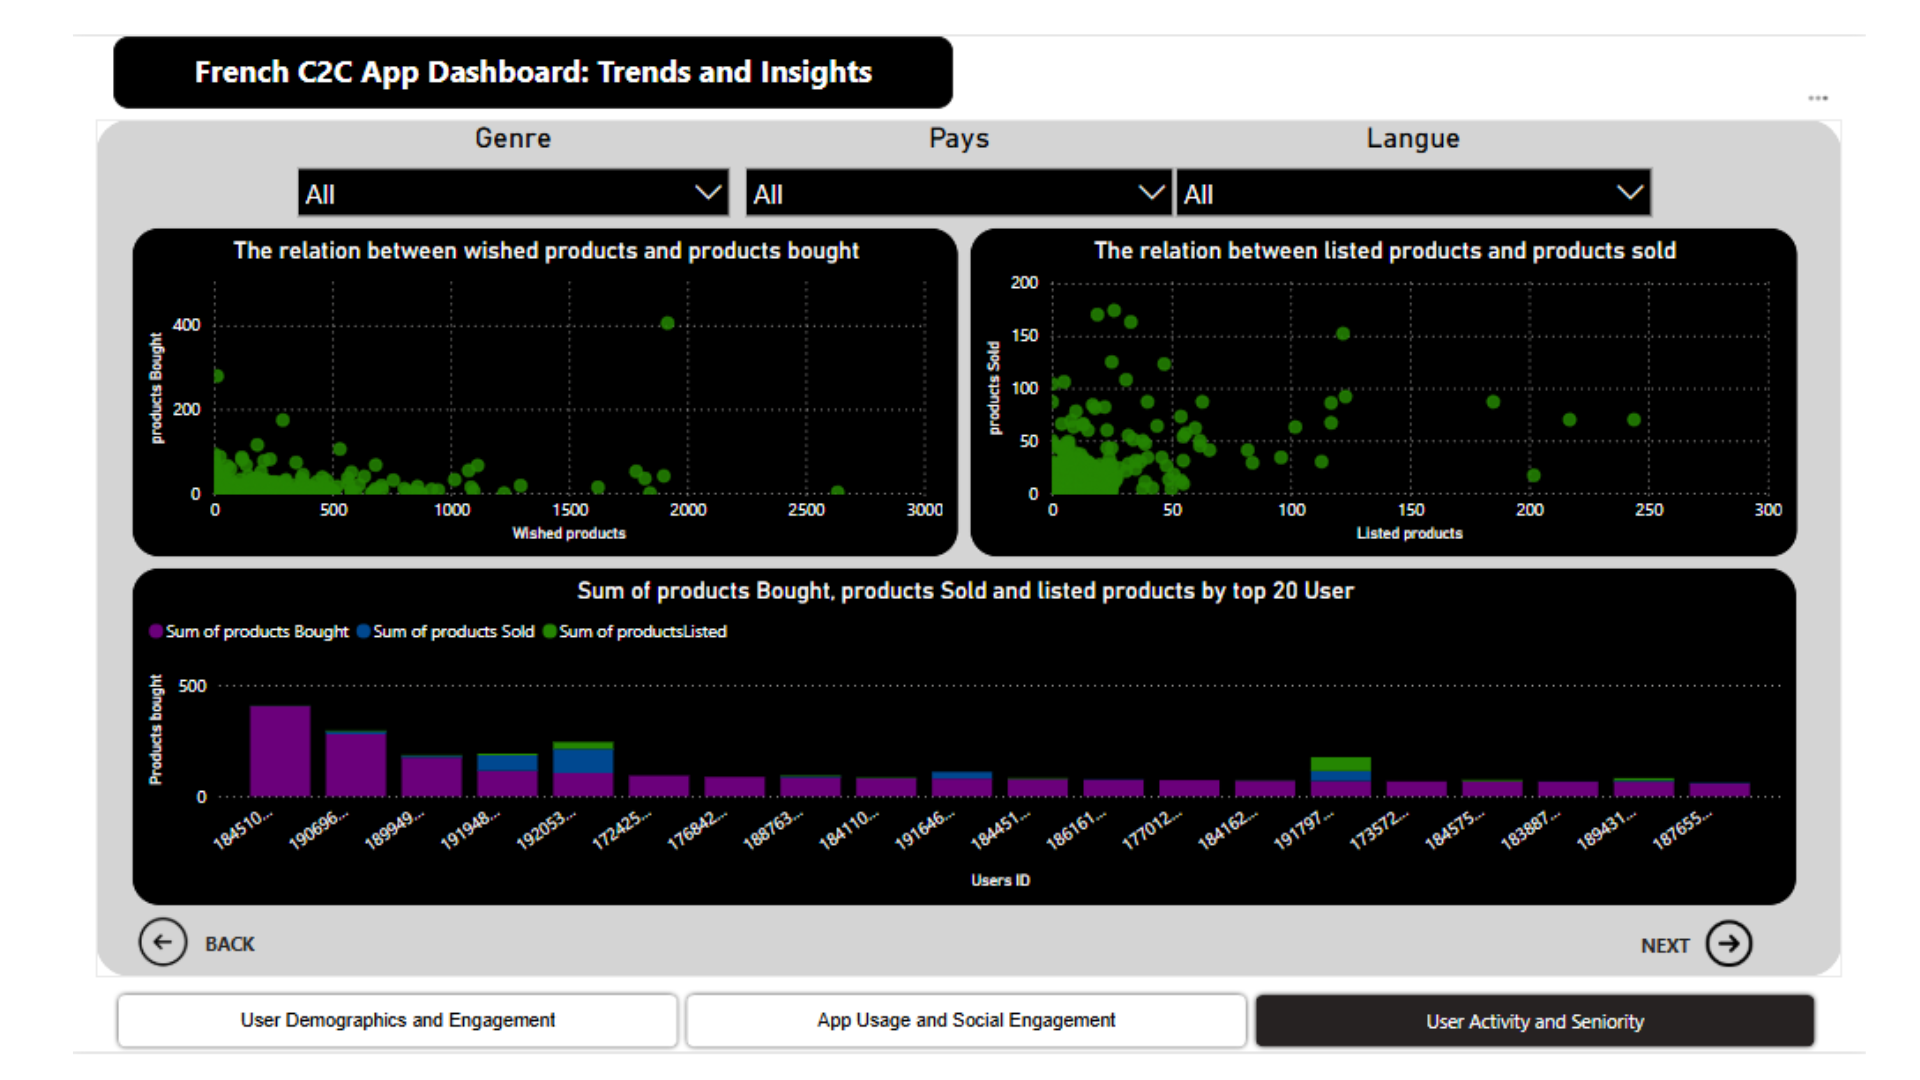

The dashboard page shown, as its layout file describes it:
{"tool":"powerbi","page":{"name":"User Activity and Seniority","canvas":[1280,720],"ordinal":2},"visuals":[{"type":"shape","box":[21.7,59.2,1237.5,608.3],"z":1000},{"type":"columnChart","title":"Sum of products Bought, products Sold and listed products by top 20 User","fields":{"Y":["Sum(users 6M0xxK 2020 public.products Bought)","Sum(users 6M0xxK 2020 public.products Sold)","Sum(users 6M0xxK 2020 public.productsListed)"],"Category":["users 6M0xxK 2020 public.identifierHash"]},"box":[46.5,376.5,1181,240.8],"z":2000},{"type":"scatterChart","title":"The relation between listed products and products sold","fields":{"X":["users 6M0xxK 2020 public.productsListed"],"Y":["users 6M0xxK 2020 public.products Sold"]},"box":[640,135,588,235],"z":3000},{"type":"scatterChart","title":"The relation between wished products and products bought","fields":{"Y":["users 6M0xxK 2020 public.products Bought"],"X":["users 6M0xxK 2020 public.productsWished"]},"box":[46,135,587,235],"z":6000},{"type":"textbox","box":[1111,631,108,36],"z":9000},{"type":"image","box":[1154.1,617.4,50.1,51.3],"z":11000},{"type":"image","box":[45.4,616.8,48.1,51.8],"z":12000},{"type":"slicer","title":"Genre","fields":{"Values":["users 6M0xxK 2020 public.gender"]},"box":[154,59.5,327,84],"z":13000},{"type":"slicer","title":"Pays","fields":{"Values":["users 6M0xxK 2020 public.country"]},"box":[471.3,59.8,323.8,83.1],"z":14000},{"type":"slicer","title":"Langue","fields":{"Values":["users 6M0xxK 2020 public.Prefered language"]},"box":[776.8,59.7,357.8,83.3],"z":15000},{"type":"pageNavigator","box":[34,676,1210,44],"z":16000},{"type":"textbox","box":[93.6,630.5,108.1,35.4],"z":17000},{"type":"textbox","box":[33.8,0,595,51.2],"z":18000}]}

Visuals, with their boxes in screenshot pixels (x1, y1, x2, y2), scaled from the page's 1280x720 canvas onto the 1920x1080 screenshot:
shape: bbox(33, 89, 1889, 1001)
"Sum of products Bought, products Sold and listed products by top 20 User" columnChart: bbox(70, 565, 1841, 926)
"The relation between listed products and products sold" scatterChart: bbox(960, 202, 1842, 555)
"The relation between wished products and products bought" scatterChart: bbox(69, 202, 950, 555)
textbox: bbox(1666, 946, 1828, 1000)
image: bbox(1731, 926, 1806, 1003)
image: bbox(68, 925, 140, 1003)
"Genre" slicer: bbox(231, 89, 722, 215)
"Pays" slicer: bbox(707, 90, 1193, 214)
"Langue" slicer: bbox(1165, 90, 1702, 214)
pageNavigator: bbox(51, 1014, 1866, 1079)
textbox: bbox(140, 946, 303, 999)
textbox: bbox(51, 0, 943, 77)
